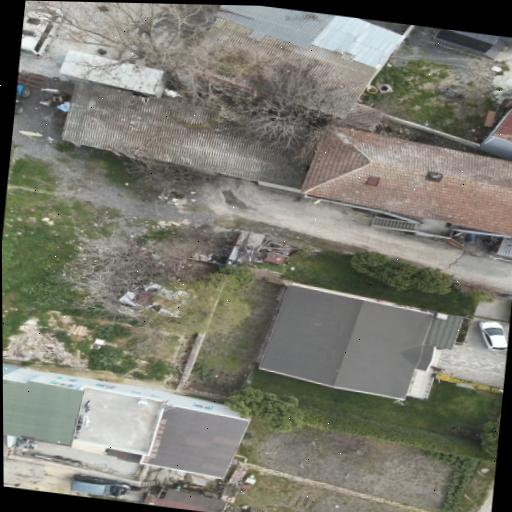car: (72, 474, 131, 497), (479, 321, 507, 351)
